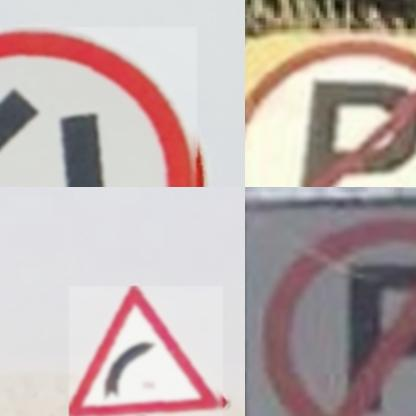No Parking: (245, 196, 416, 416), (245, 28, 416, 187)
Right bend: (69, 287, 223, 416)
Road Divides: (0, 28, 196, 187)
